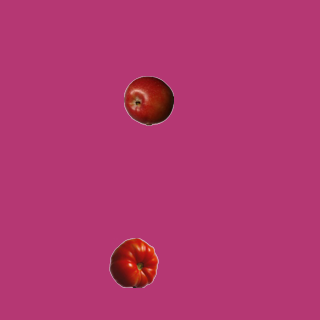Apple Braeburn: (123, 75, 173, 125)
Tomato 3: (108, 237, 158, 287)
